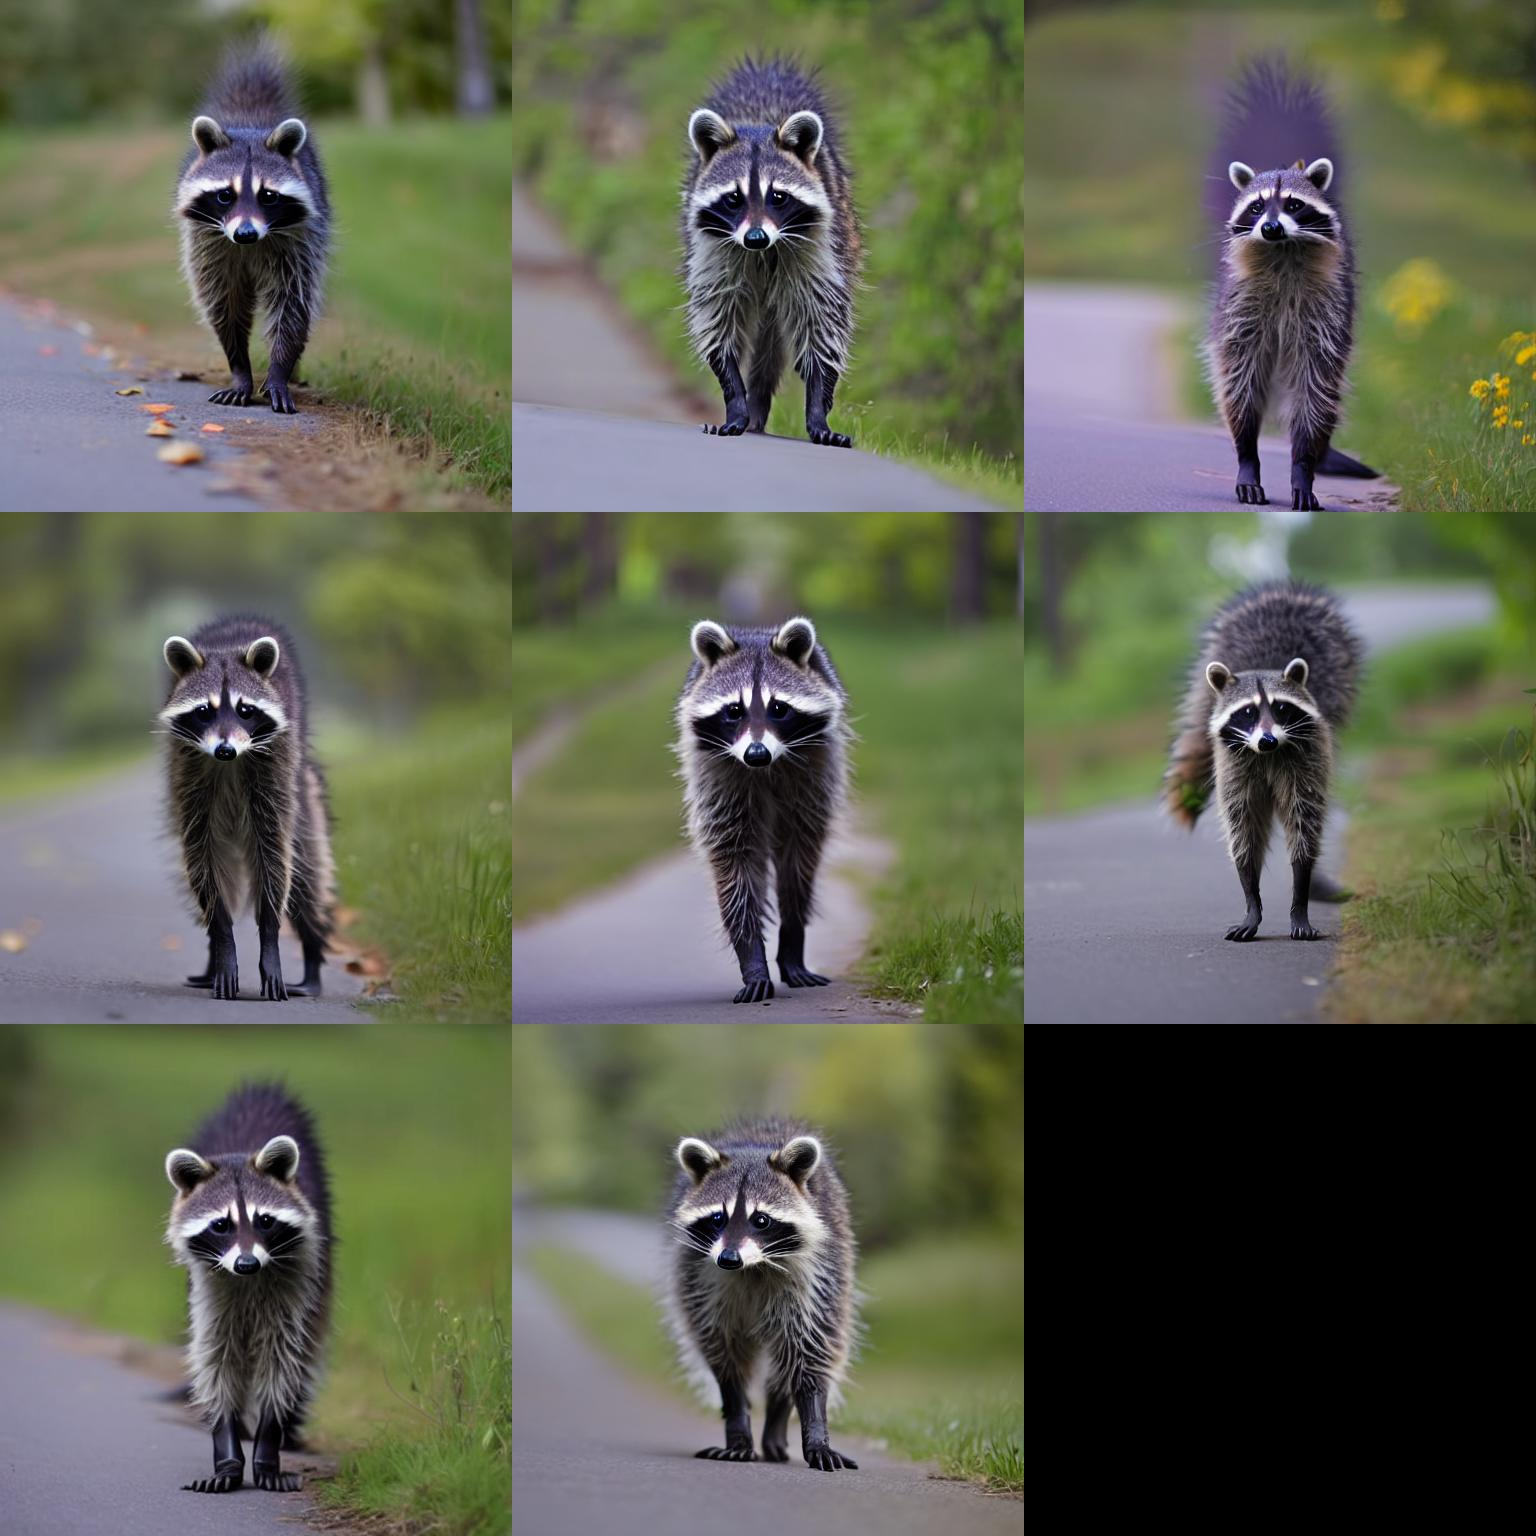raccoon: (675, 63, 875, 391), (158, 1070, 340, 1414), (648, 1113, 864, 1394), (665, 603, 861, 896), (152, 608, 335, 914), (163, 93, 342, 378), (1193, 139, 1363, 416), (1176, 617, 1357, 864)
